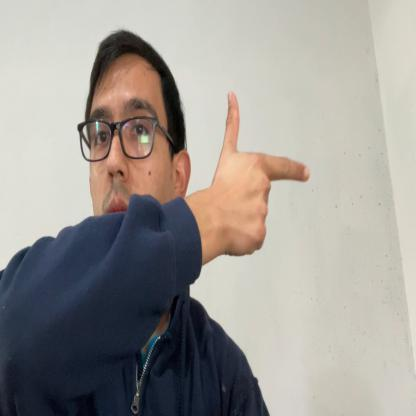G: (218, 91, 310, 256)
